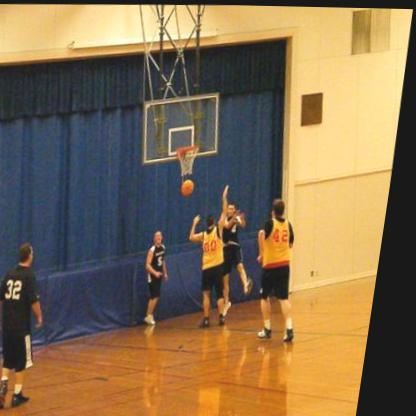basketball: (186, 179, 201, 196)
rim: (182, 143, 204, 151)
